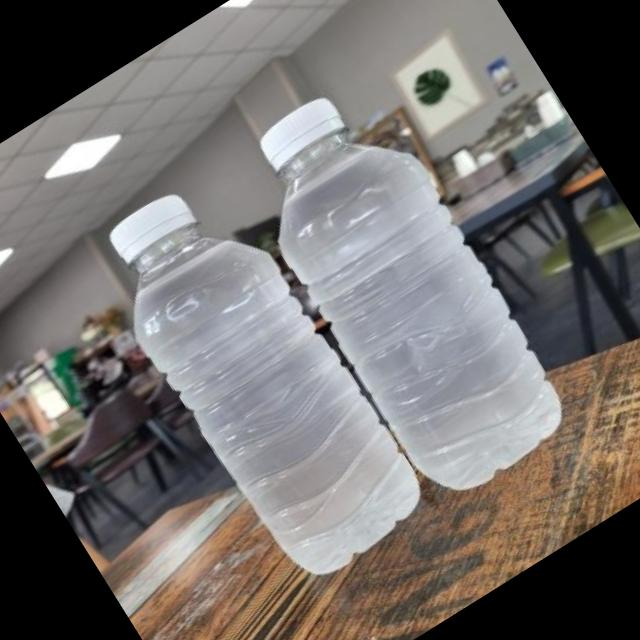BotolPlastik: (219, 63, 586, 510), (72, 156, 434, 596)
